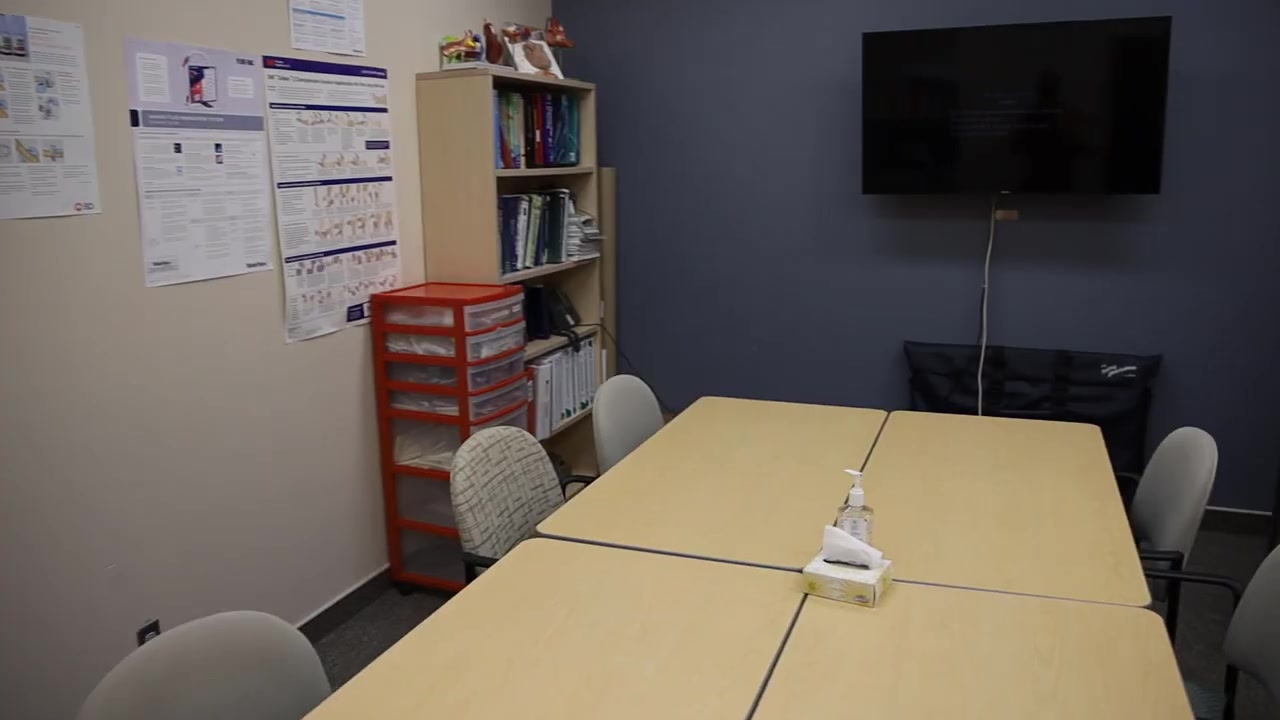TV: (859, 11, 1174, 199)
cabinet: (413, 75, 604, 440)
chair: (82, 608, 335, 720), (1125, 426, 1219, 636), (450, 425, 565, 589), (1215, 546, 1280, 720), (590, 372, 662, 484)
dispenser: (834, 467, 874, 544)
drawer: (370, 285, 516, 592)
table: (305, 394, 1168, 719)
